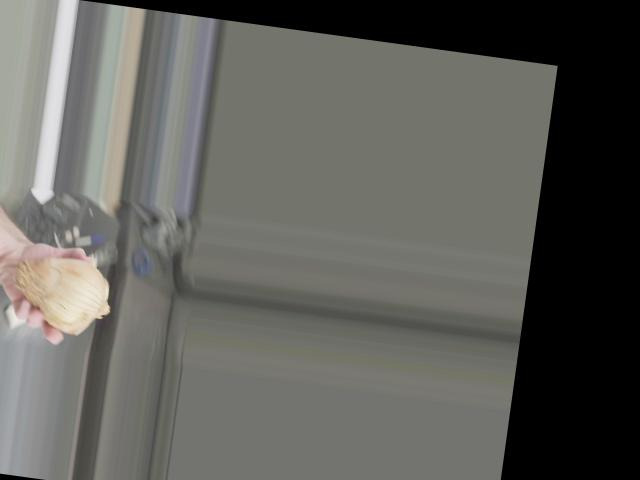onion: (13, 250, 114, 337)
